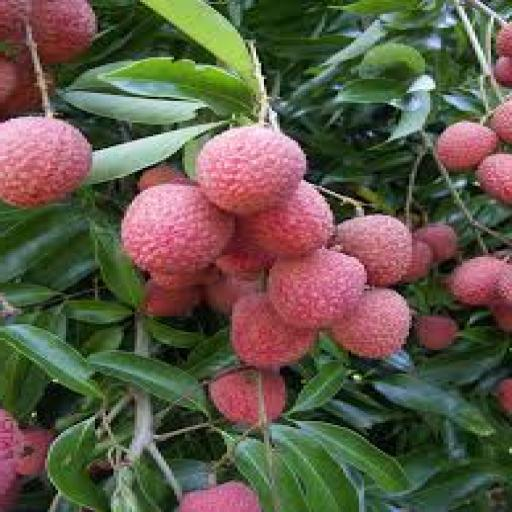lychee: (121, 184, 233, 272), (195, 127, 305, 215), (0, 117, 91, 207), (269, 250, 365, 328), (242, 182, 331, 256), (232, 293, 315, 367), (332, 289, 410, 359), (335, 214, 410, 286), (208, 368, 284, 426), (29, 0, 96, 63), (435, 121, 497, 171), (216, 228, 273, 280), (448, 256, 505, 306), (176, 483, 260, 511), (0, 60, 41, 116), (205, 277, 260, 314), (142, 281, 199, 316), (0, 410, 20, 504), (15, 429, 54, 476), (475, 155, 511, 205), (411, 224, 458, 262), (150, 267, 218, 290), (414, 315, 458, 349), (137, 165, 194, 191), (0, 0, 28, 47), (401, 240, 431, 282), (0, 58, 20, 114), (490, 99, 511, 144), (490, 301, 511, 334), (0, 479, 20, 511), (496, 265, 511, 302), (496, 380, 511, 415), (496, 22, 511, 57), (493, 58, 511, 86)
